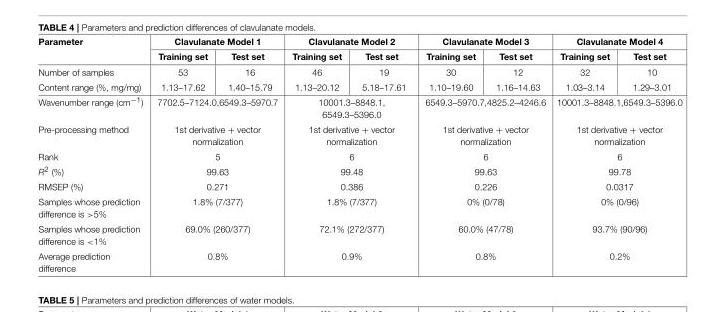table: (37, 37, 681, 272)
table column: (37, 37, 149, 272), (414, 37, 485, 272), (550, 37, 620, 272), (149, 37, 217, 272), (217, 37, 284, 272), (284, 37, 351, 272), (485, 37, 550, 272), (351, 37, 414, 272), (620, 37, 681, 272)
table column header: (37, 37, 681, 64)
table row: (37, 93, 681, 121), (37, 121, 681, 149), (37, 194, 681, 221), (37, 221, 681, 248), (37, 248, 681, 272), (37, 163, 681, 179), (37, 49, 681, 64), (37, 64, 681, 79), (37, 179, 681, 194), (37, 79, 681, 93), (37, 149, 681, 163), (37, 37, 681, 49)
table spanning cell: (414, 93, 550, 121), (414, 121, 550, 149), (149, 93, 284, 121), (149, 121, 284, 149), (414, 194, 550, 221), (414, 221, 550, 248), (550, 93, 681, 121), (550, 121, 681, 149), (149, 194, 284, 221), (149, 221, 284, 248), (284, 93, 414, 121), (284, 121, 414, 149), (550, 194, 681, 221), (550, 221, 681, 248), (284, 194, 414, 221), (284, 221, 414, 248), (414, 248, 550, 272), (149, 248, 284, 272), (550, 248, 681, 272), (284, 248, 414, 272), (37, 37, 149, 64), (414, 163, 550, 179), (149, 163, 284, 179), (550, 163, 681, 179), (284, 163, 414, 179), (414, 179, 550, 194), (149, 179, 284, 194), (550, 179, 681, 194), (284, 179, 414, 194), (414, 149, 550, 163), (149, 149, 284, 163), (550, 149, 681, 163), (284, 149, 414, 163), (414, 37, 550, 49), (149, 37, 284, 49), (550, 37, 681, 49), (284, 37, 414, 49)
